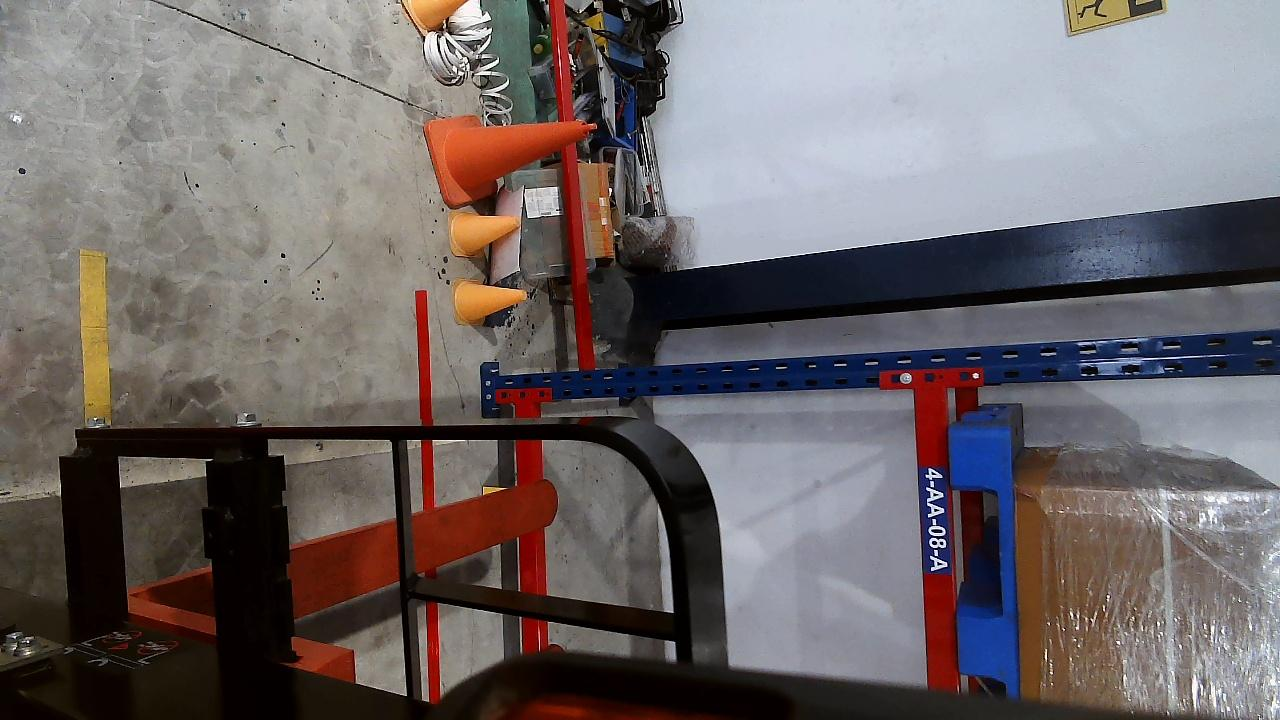h_rack: (910, 383, 964, 694), (513, 407, 546, 651)
red_line: (414, 289, 443, 702)
small_pallet: (947, 418, 1016, 695)
yellow_line: (78, 249, 111, 425)
